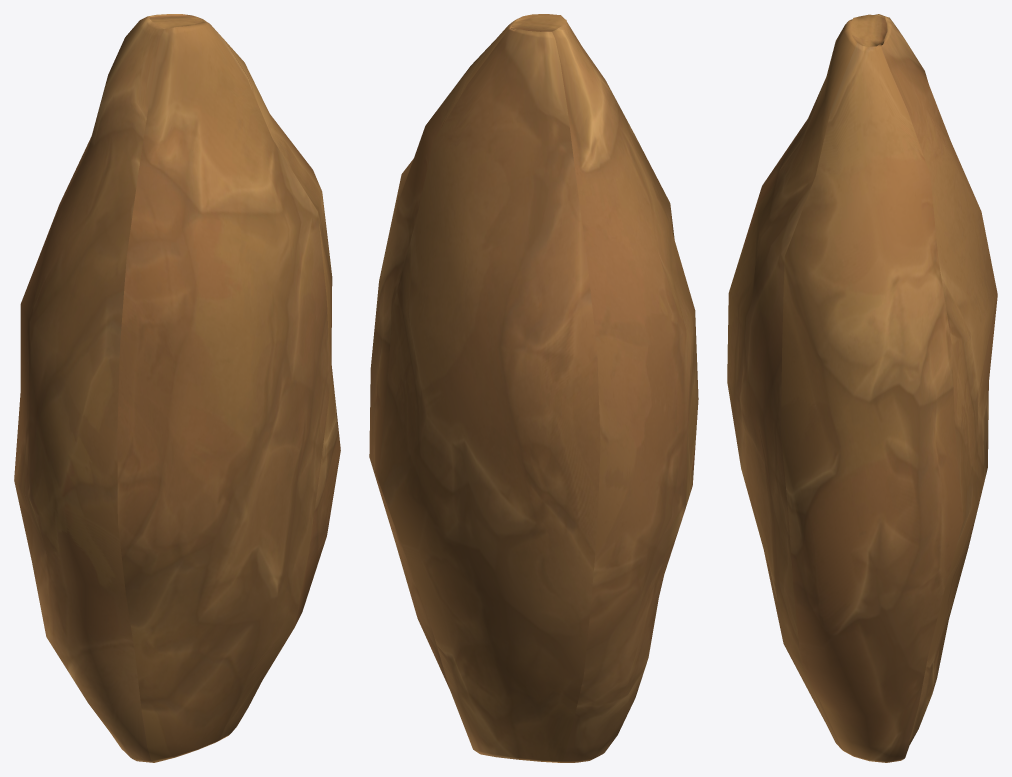
The model's file is Lowest_islands10.fbx.
The picture shows the model from 3 angles, left to right: view 1: azimuth 30°, elevation 25°; view 2: azimuth 150°, elevation 25°; view 3: azimuth 270°, elevation 25°; orthographic projection. The views are drawn at different scales.
Parts seen in each view (by area): view 1: Cube.012; view 2: Cube.012; view 3: Cube.012.
Part boxes in pixels (x1,y1,x2,y2): Cube.012: (14, 14, 340, 762); Cube.012: (369, 14, 698, 762); Cube.012: (727, 14, 997, 762).
Size of the model in its own units: 539 by 1253 by 430.
Materials: 1 (1 with a texture image).
